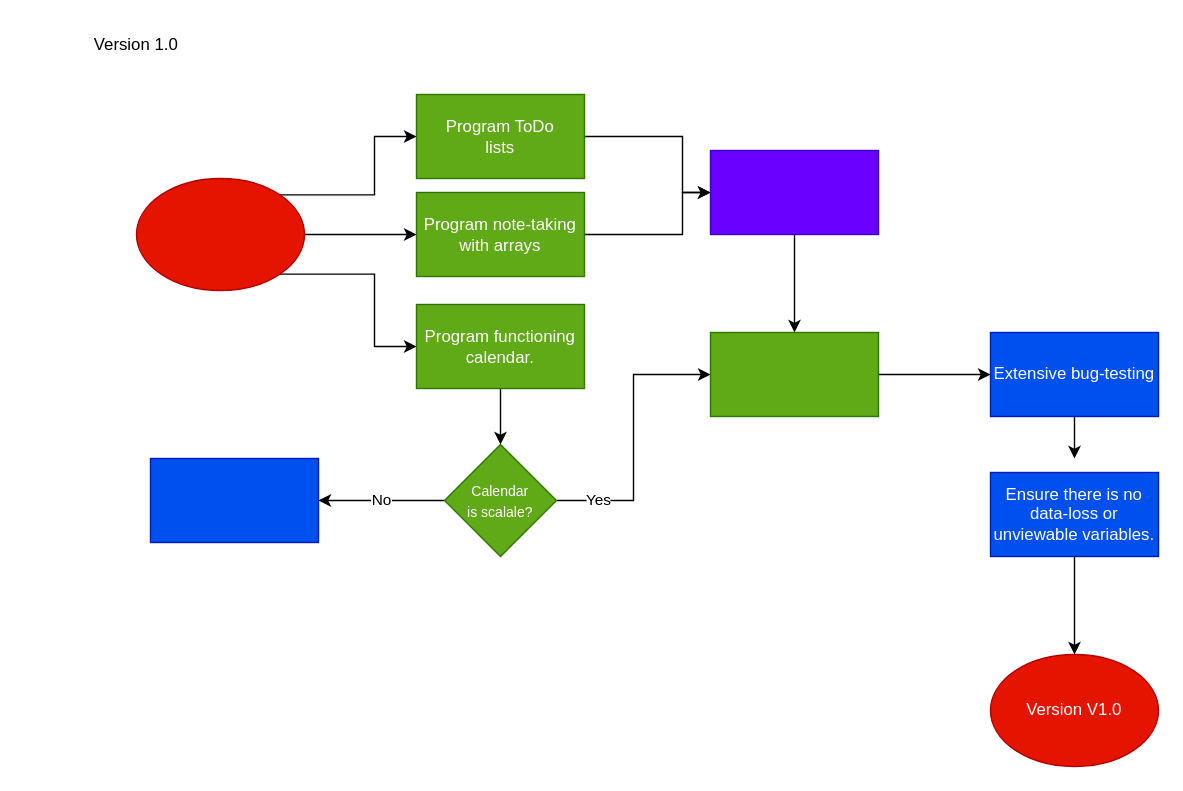
This 1183x791 diagram has some shape labels left out. Each missing label, with the centre of its shape:
"Connect todolists to notes and vice-versa" goes at (793,191).
"Program topics/objects that center the notes/todo/dates" goes at (793,373).
"Reconstruct backend for future-proofing for V2.0" goes at (233,499).
"Start Project" goes at (219,233).
